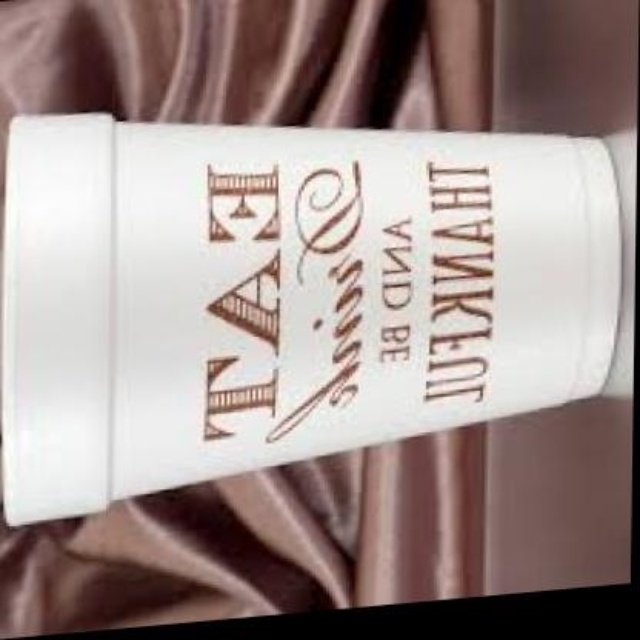trash: (3, 114, 618, 523)
